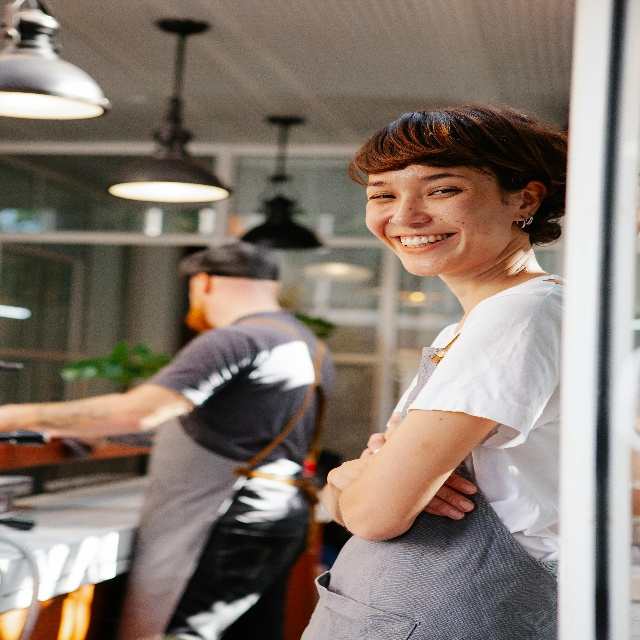Sin_guantes: (423, 474, 478, 520)
